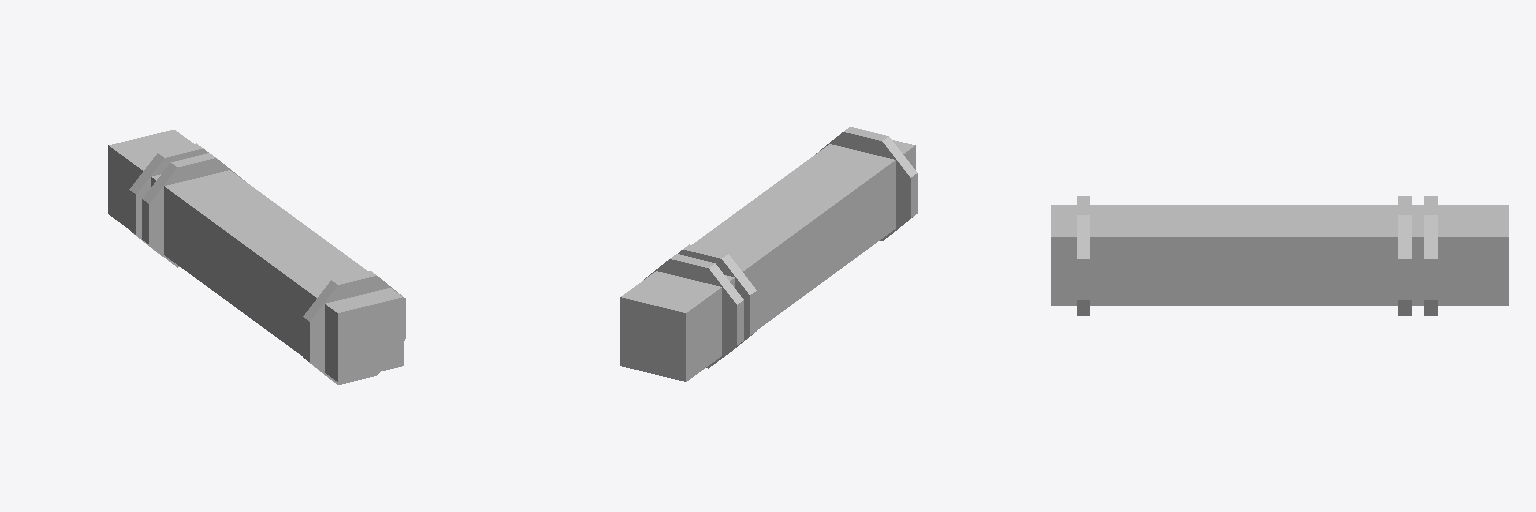
Rendered from barrel.obj.
3 renders of one model, left to right at view 1: azimuth 30°, elevation 25°; view 2: azimuth 150°, elevation 25°; view 3: azimuth 270°, elevation 25°, orthographic.
Parts seen in each view (by area): view 1: barrel; view 2: barrel; view 3: barrel.
Boxes of the visible parts, x1=… form: barrel: x1=108, y1=130, x2=405, y2=384; barrel: x1=620, y1=127, x2=917, y2=381; barrel: x1=1051, y1=196, x2=1508, y2=315.
Bounding box in the file's own units: 4 × 4 × 16.59.